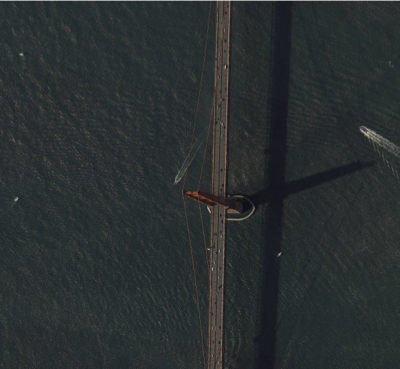boat: (359, 124, 368, 135), (11, 194, 19, 204), (173, 179, 179, 189)
